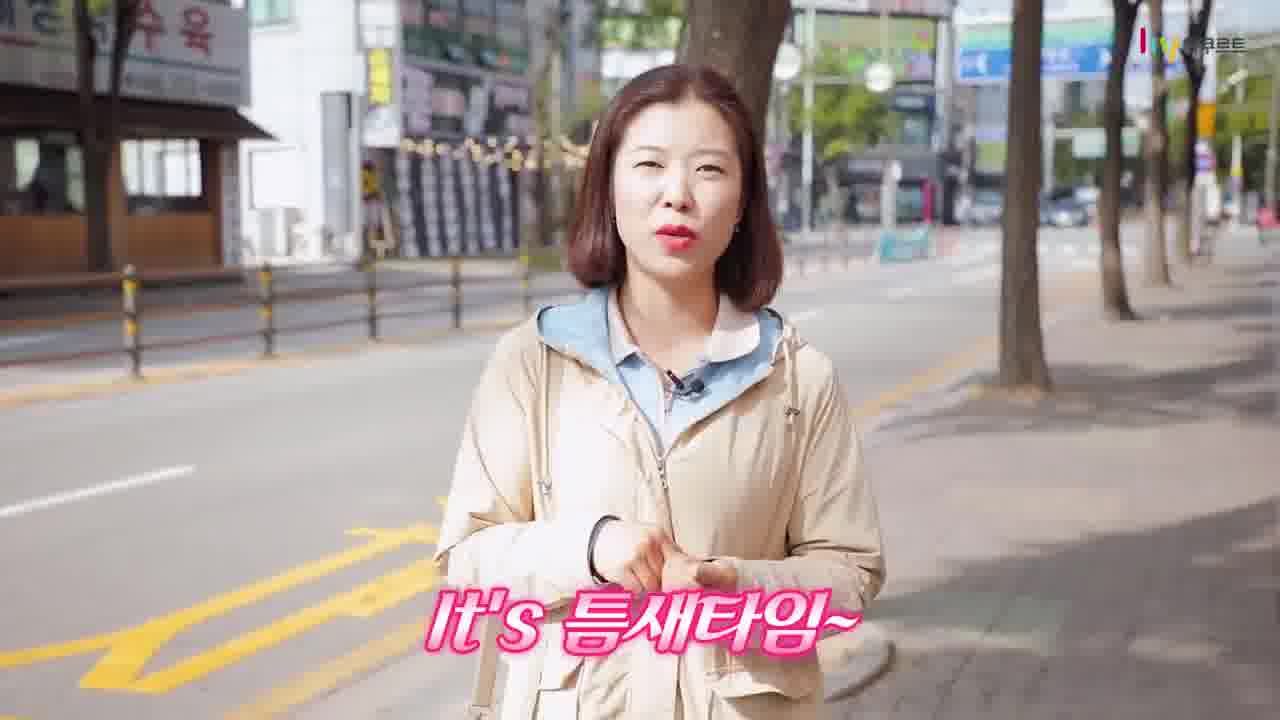Yakurut: (420, 56, 896, 720)
